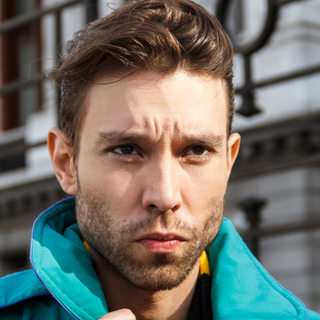eye: (99, 140, 147, 164), (175, 141, 216, 161)
